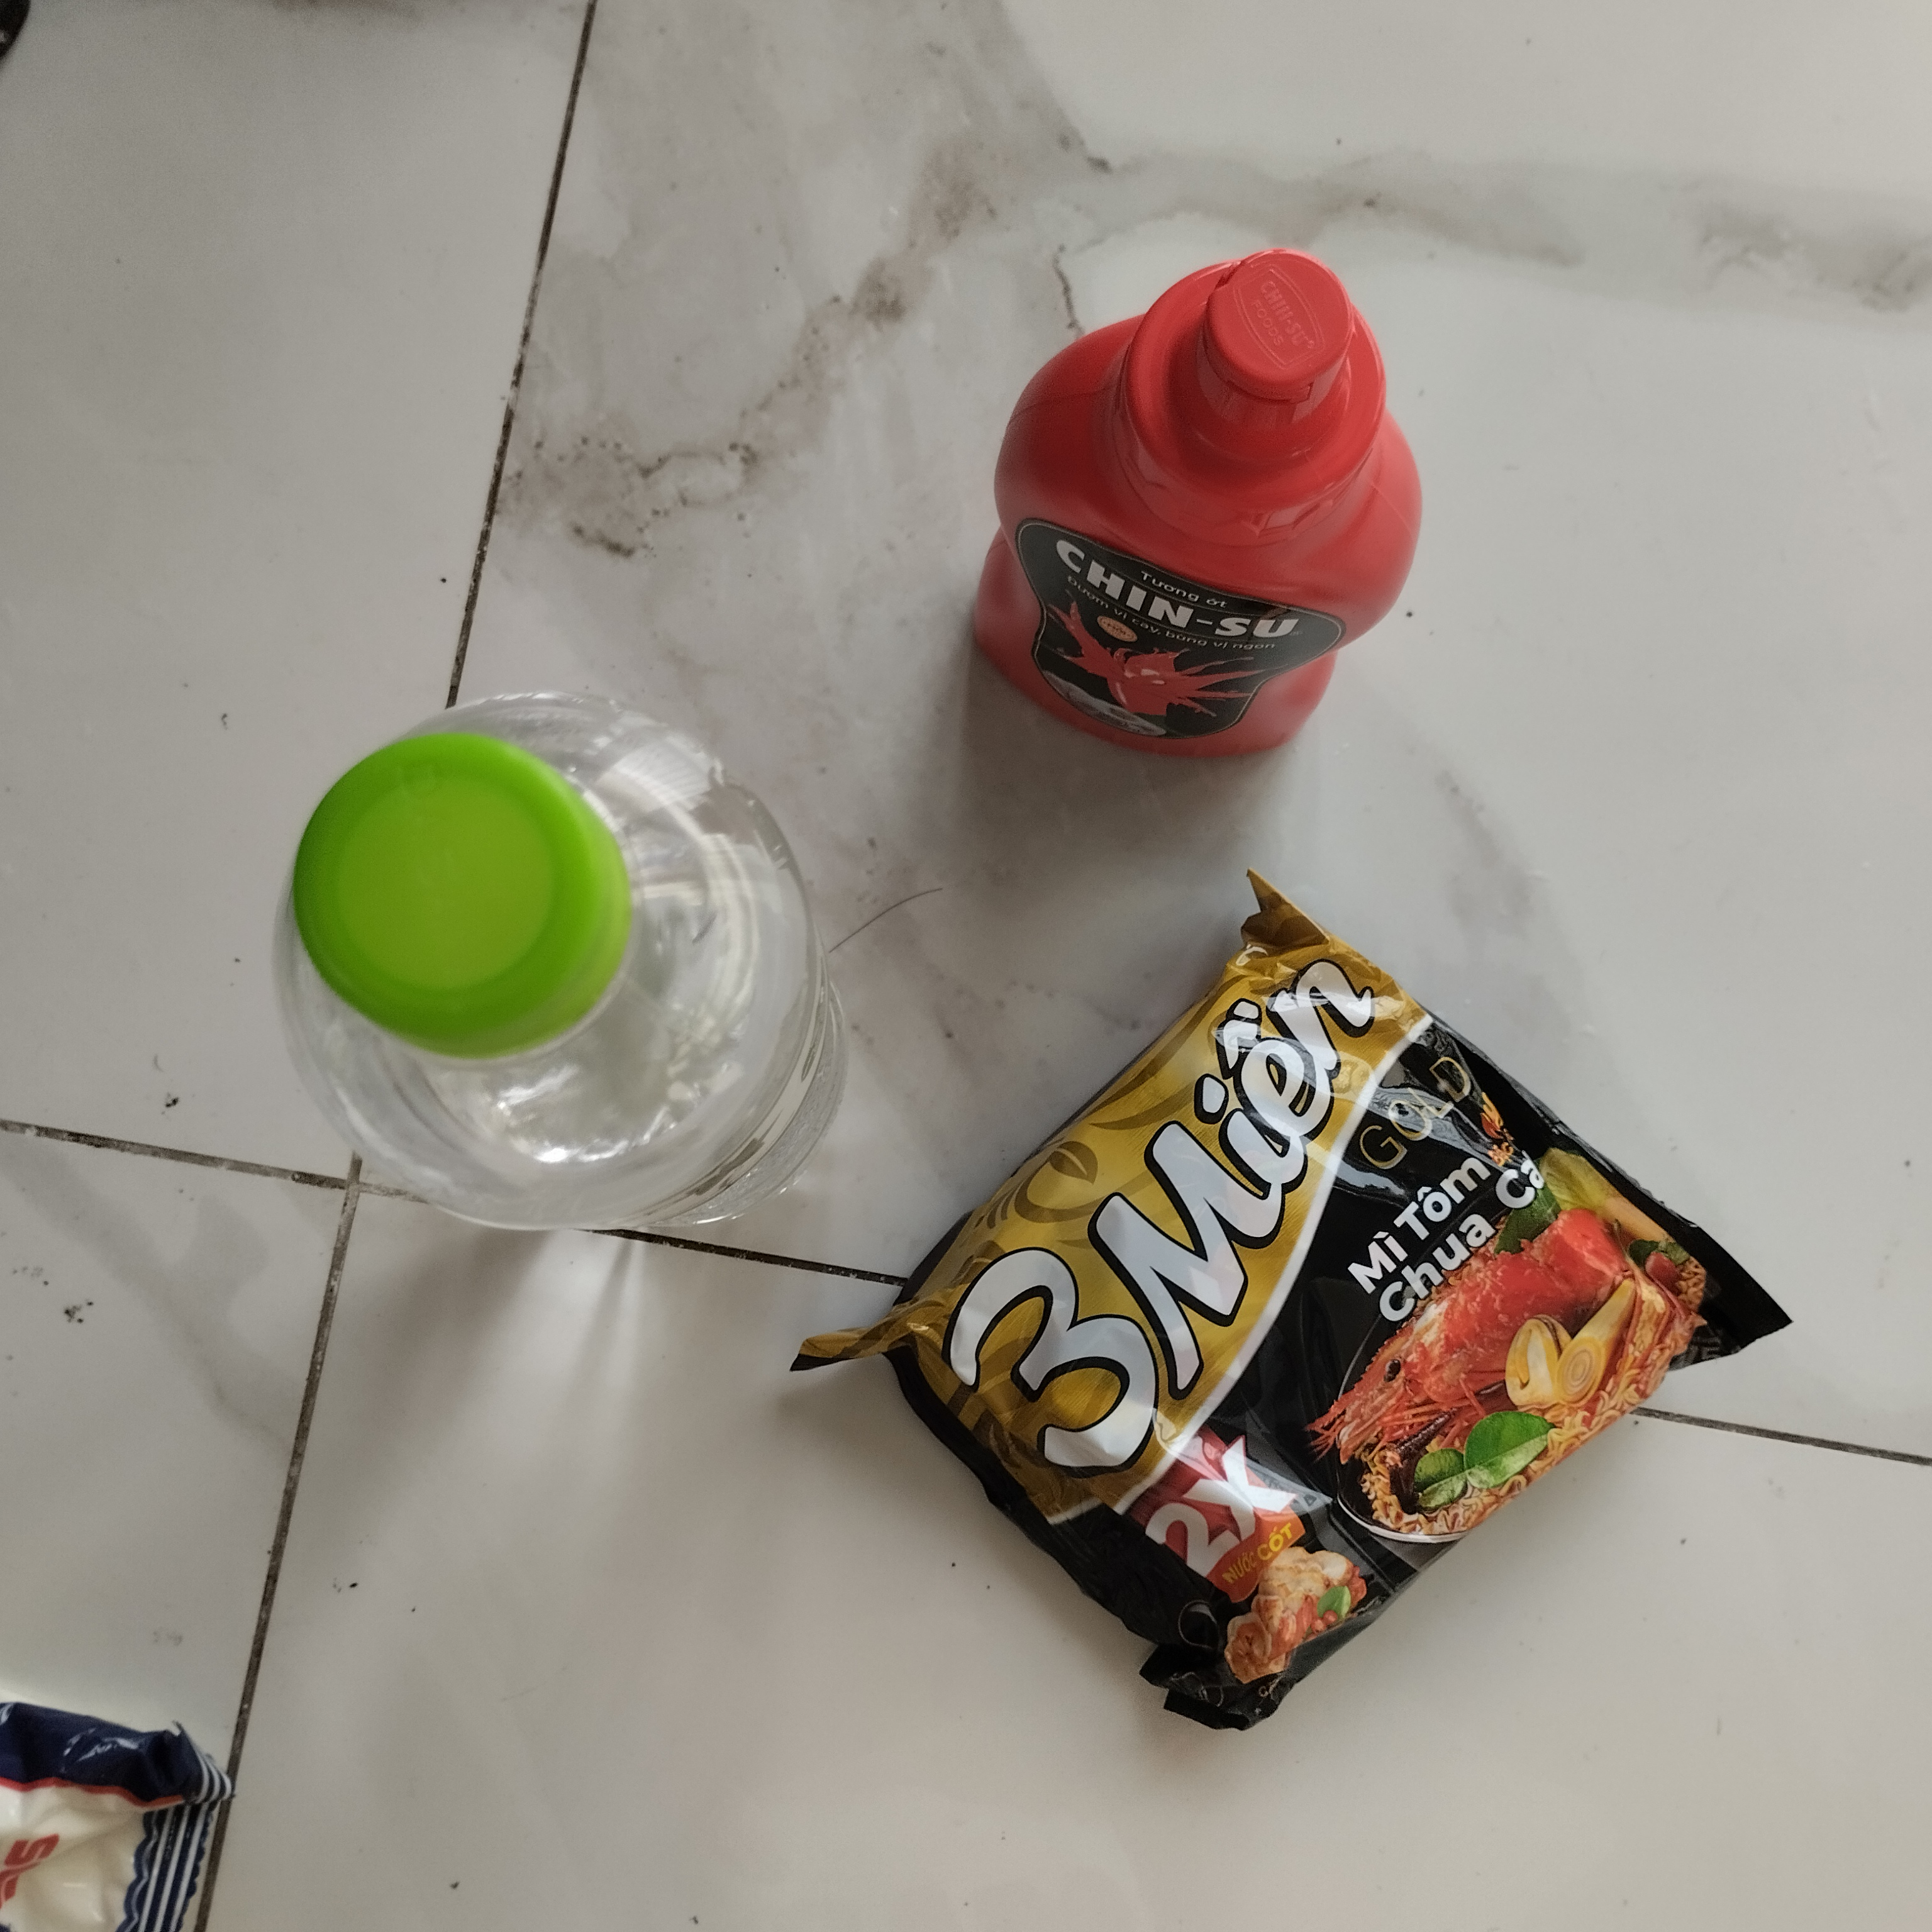3mien: (777, 876, 1819, 1739)
Chinsu: (948, 248, 1430, 798)
Dasani: (265, 681, 870, 1244)
